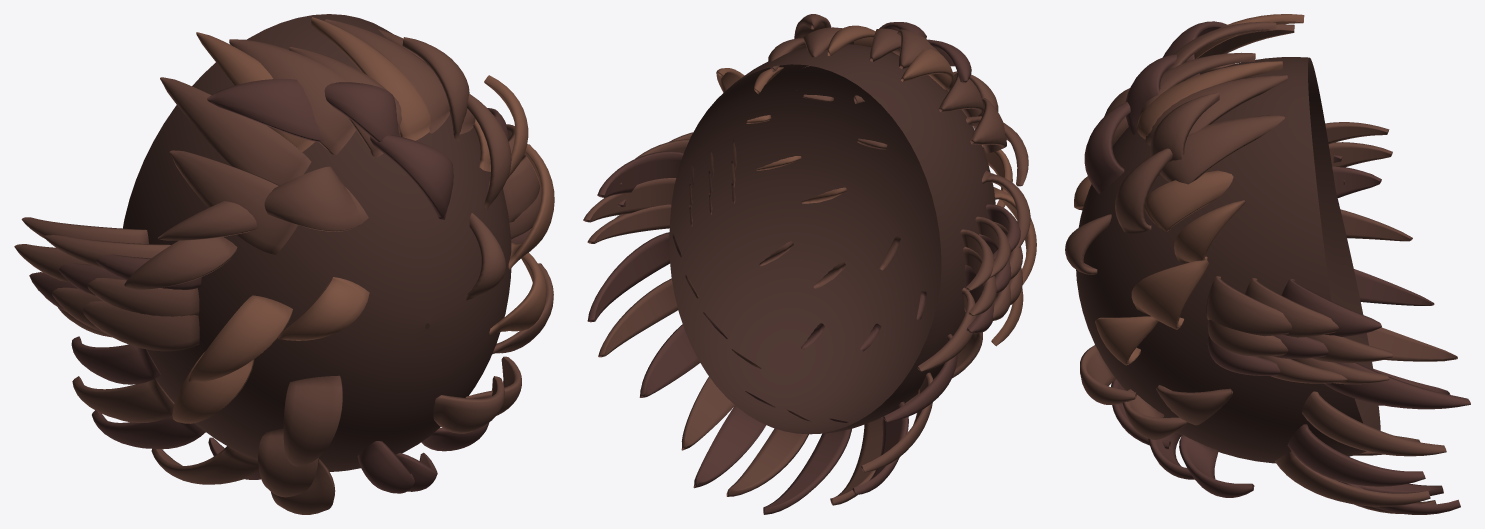
The model's file is Ender_BroadLayerHair_V3_NONCANONICAL.glb.
3 renders of one model, left to right at view 1: azimuth 30°, elevation 25°; view 2: azimuth 150°, elevation 25°; view 3: azimuth 270°, elevation 25°, orthographic. The views are drawn at different scales.
Parts seen in each view (by area): view 1: EnderBroadLayerHairV3_STATIC_REVIEW; view 2: EnderBroadLayerHairV3_STATIC_REVIEW; view 3: EnderBroadLayerHairV3_STATIC_REVIEW.
Part boxes in pixels (x1,y1,x2,y2): EnderBroadLayerHairV3_STATIC_REVIEW: (14,14,554,514); EnderBroadLayerHairV3_STATIC_REVIEW: (583,14,1036,514); EnderBroadLayerHairV3_STATIC_REVIEW: (1065,14,1470,514).
Size of the model in its own units: 0.2378 by 0.2399 by 0.197.
